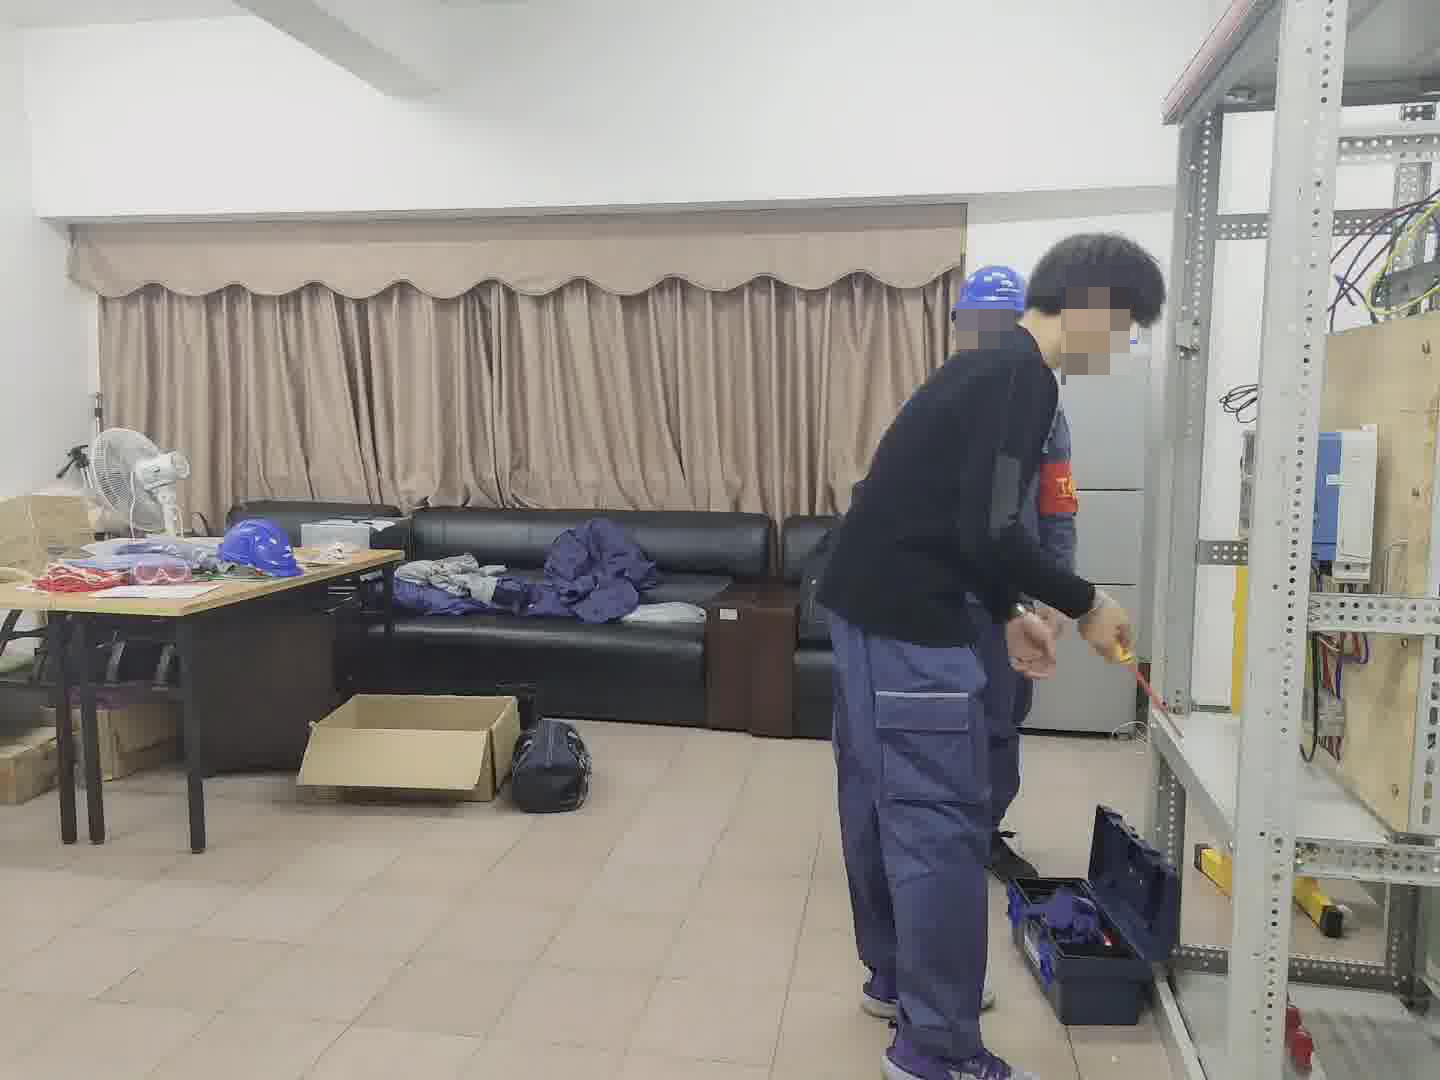badge: (1036, 459, 1080, 520)
downsuit: (833, 653, 1019, 1079)
halt: (1027, 227, 1167, 380), (948, 262, 1033, 343)
hand: (1008, 603, 1060, 685), (1078, 594, 1137, 666)
noear: (1063, 283, 1115, 366)
person: (810, 236, 1164, 1080)
upcloth: (836, 332, 1082, 643)
